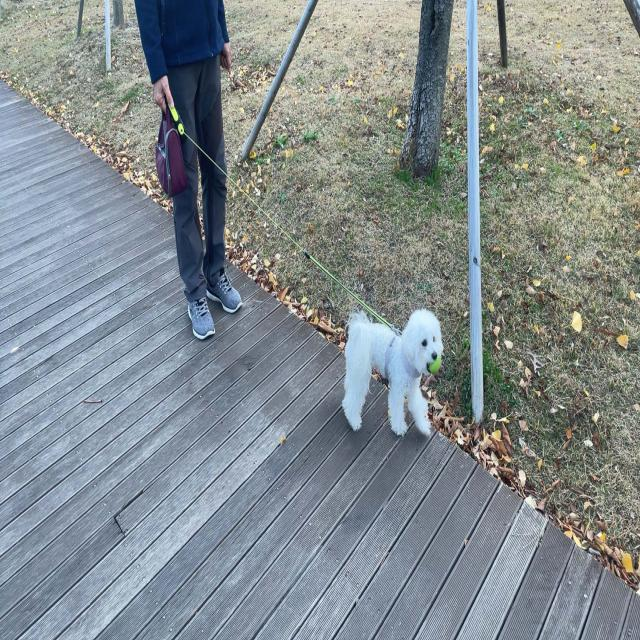Leashed_Dog: (153, 73, 443, 436)
